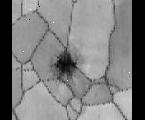good_void: (51, 45, 80, 79)
